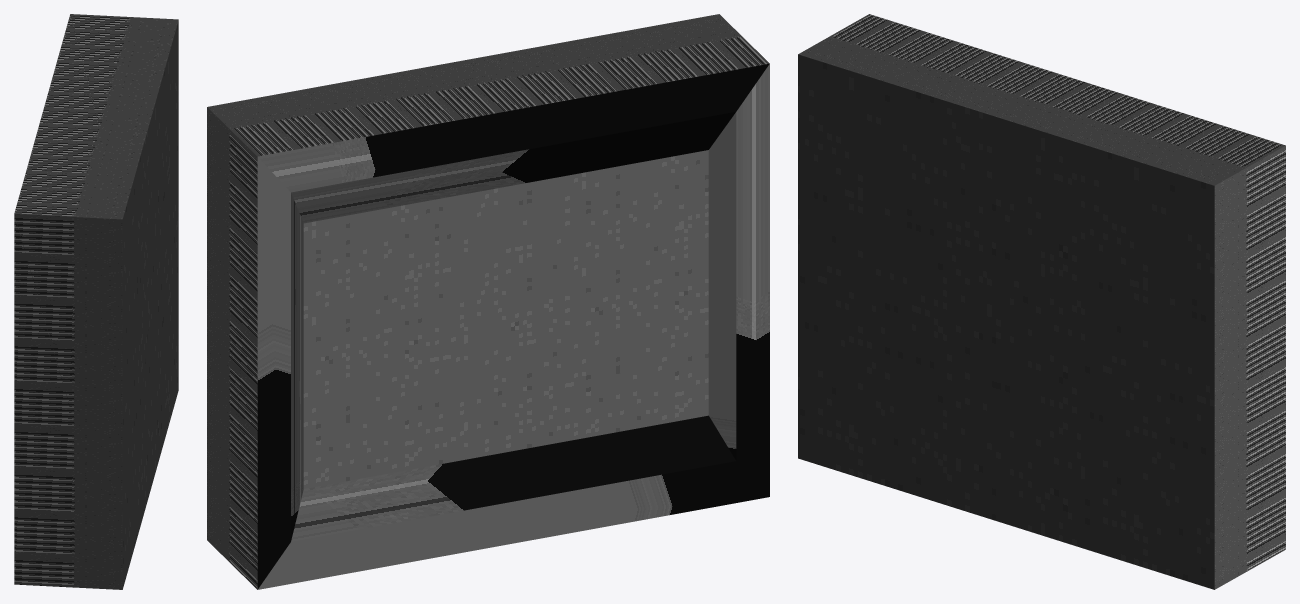
Rendered from primary_158.glb.
3 views of the same model, side by side, from view 1: azimuth 30°, elevation 25°; view 2: azimuth 150°, elevation 25°; view 3: azimuth 270°, elevation 25° (orthographic). The views are drawn at different scales.
Parts seen in each view (by area): view 1: Object; view 2: Object; view 3: Object.
Boxes of the visible parts, box(x1,y1,x2,y2) form: Object: box(14, 14, 178, 589); Object: box(207, 14, 769, 589); Object: box(798, 14, 1285, 589).
Size of the model in its own units: 0.4476 by 0.4909 by 0.537.
11 materials, 11 textured.
